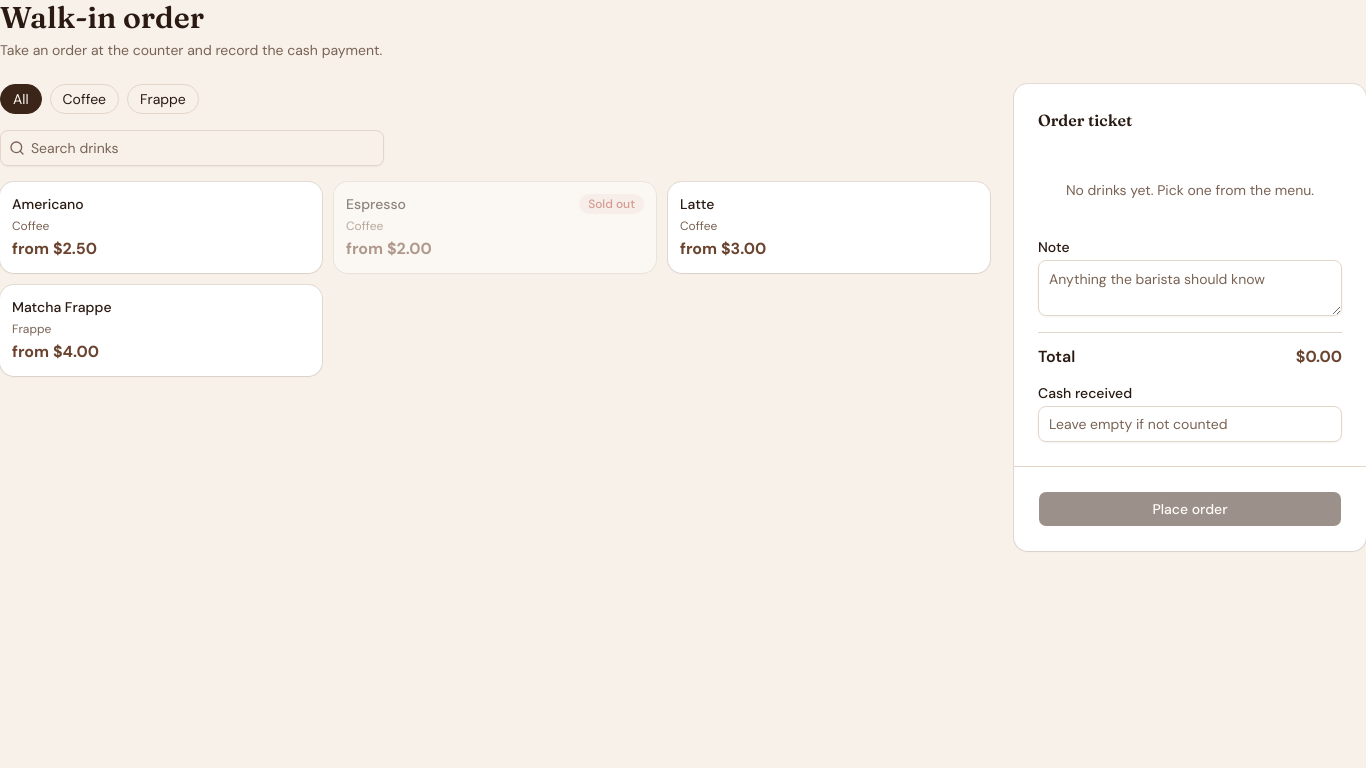
Scenario: WalkInPage (FR-23, FR-39, BR-13) › stops at three add-ons and says why (TC-13)
Click the button "Latte Coffee from $3.00" at (697, 204), box [668,182,990,273]
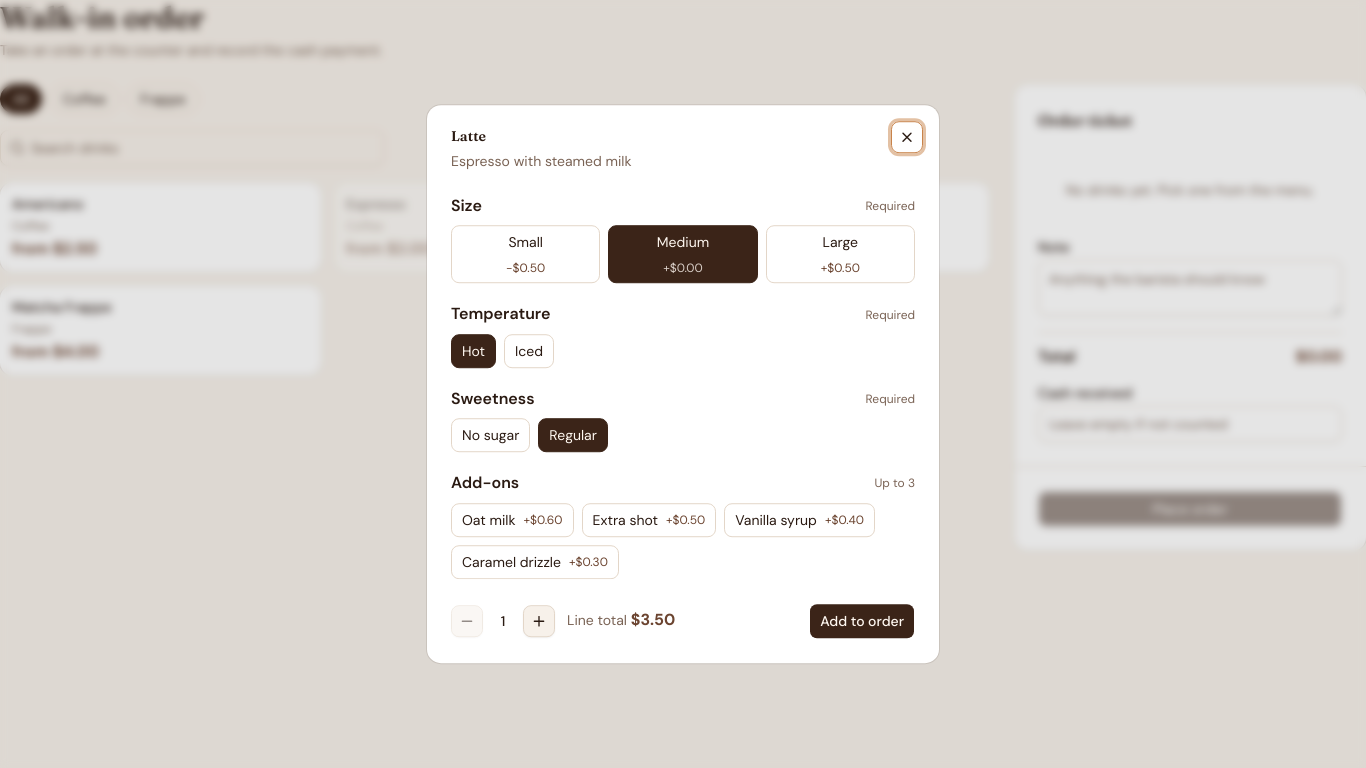
Click the button "Oat milk +$0.60" at (512, 520), box [451,503,574,537]
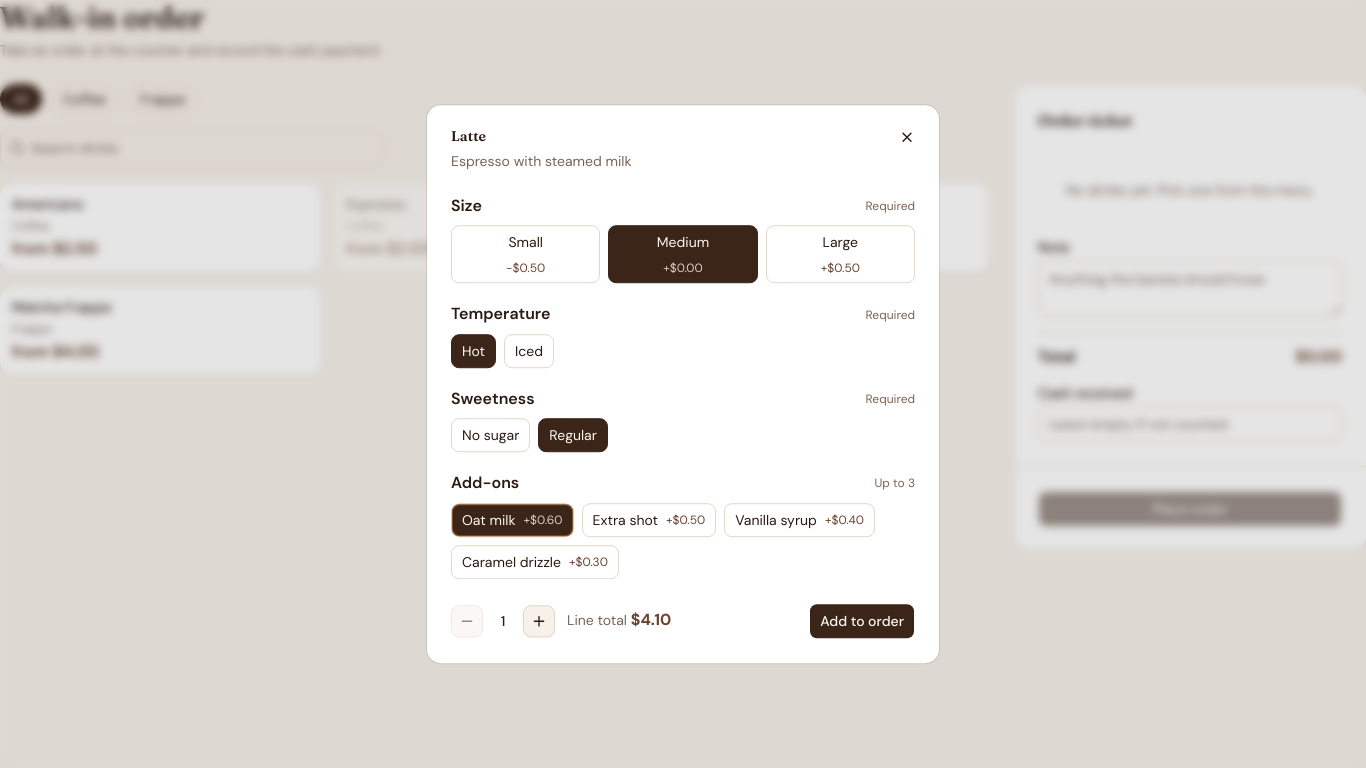
Click the button "Extra shot +$0.50" at (649, 520), box [582,503,716,537]
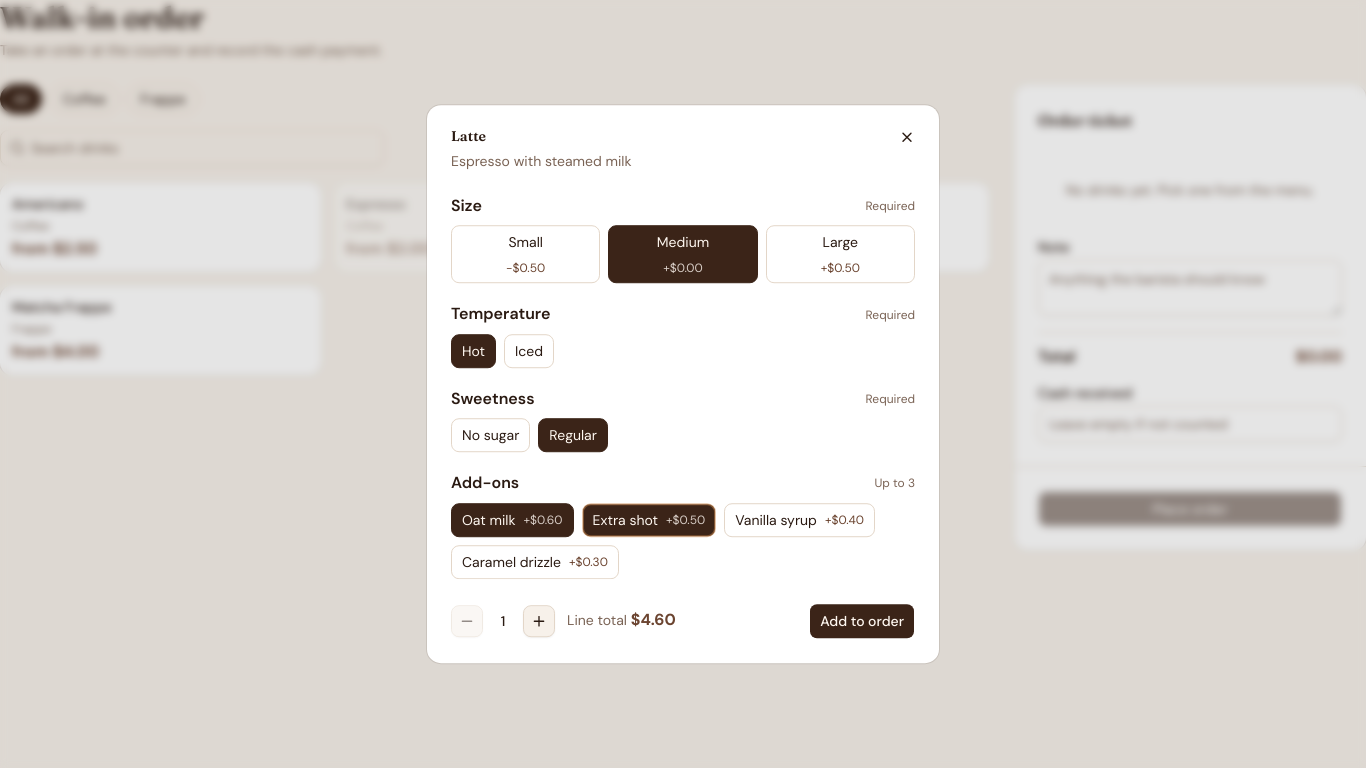
Click the button "Vanilla syrup +$0.40" at (800, 520), box [724,503,875,537]
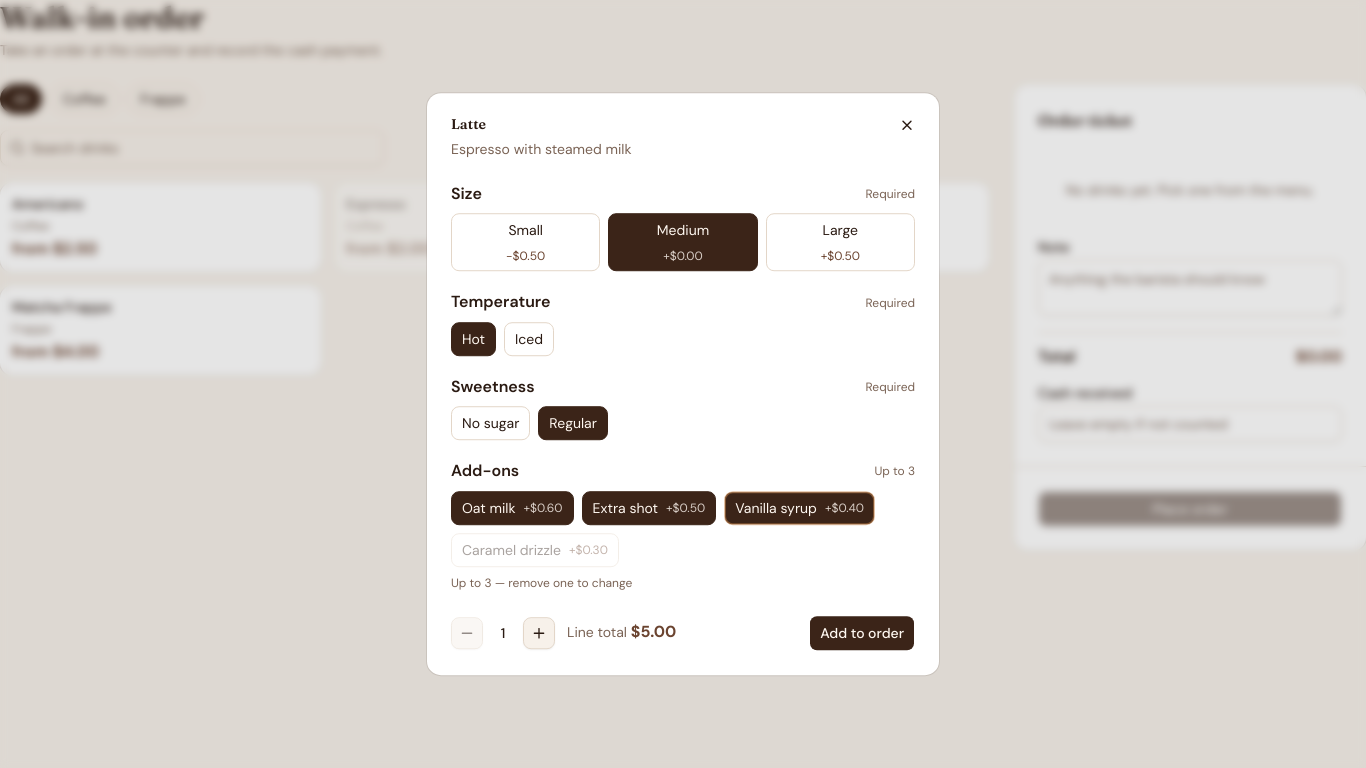
Now the button "Oat milk +$0.60" is enabled, box [451,491,574,525]
Now the text "Up to 3 — remove one to change" is shown, box [451,575,632,591]
Now the button "Caramel drizzle +$0.30" is disabled, box [451,533,619,567]
